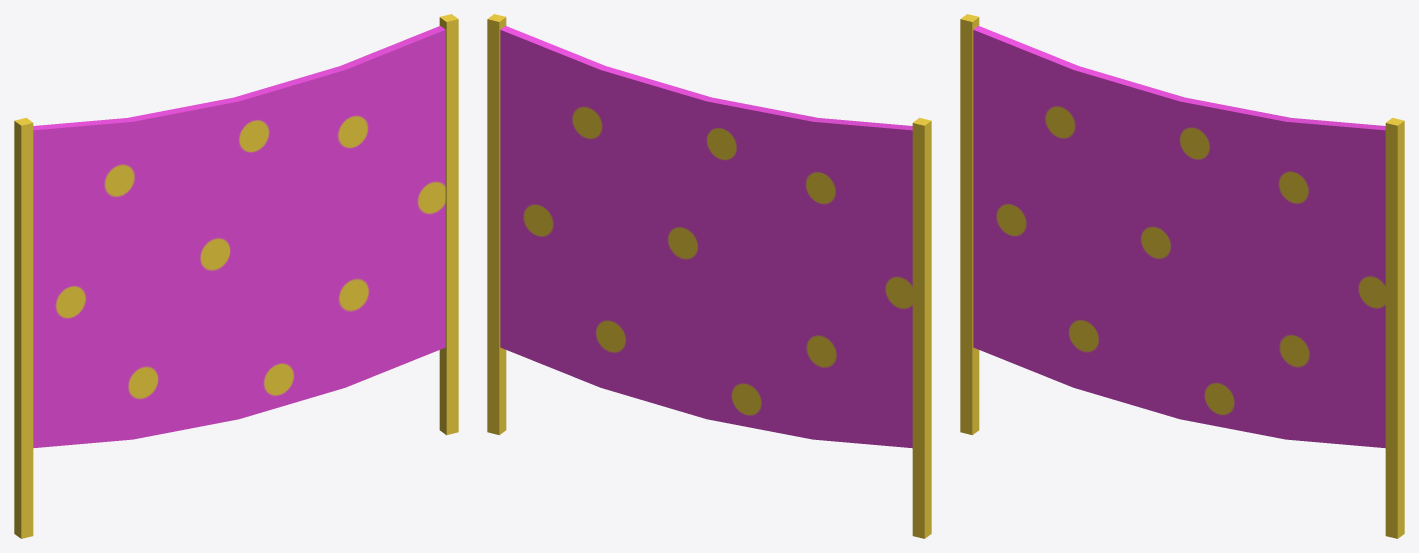
The model's file is mode_paper_obstacle.FBX.
The picture shows the model from 3 angles, left to right: view 1: azimuth 30°, elevation 25°; view 2: azimuth 150°, elevation 25°; view 3: azimuth 330°, elevation 25°; orthographic projection.
Parts seen in each view (by area): view 1: Box002; view 2: Box002; view 3: Box002.
Part boxes in pixels (left/top/right/bottom): Box002: left=14, top=14, right=458, bottom=538; Box002: left=487, top=14, right=931, bottom=538; Box002: left=960, top=14, right=1404, bottom=538.
Size of the model in its own units: 144 by 130 by 4.
Materials: 1 (1 with a texture image).
